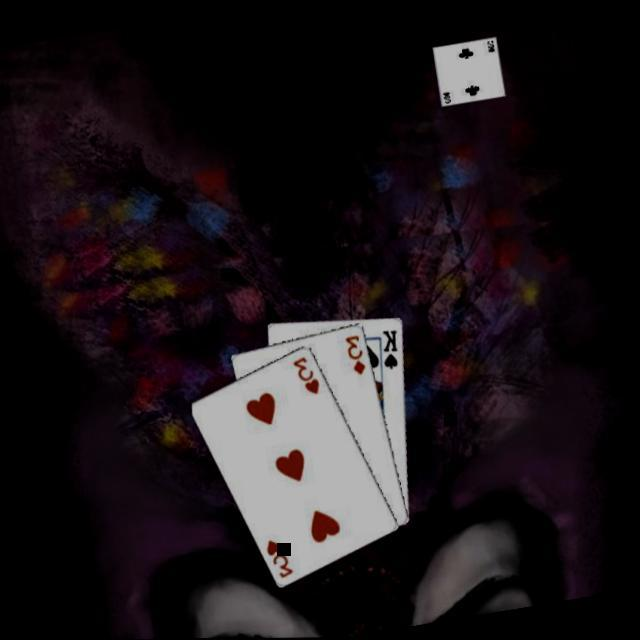3D: (342, 329, 370, 377)
3H: (262, 531, 298, 581), (290, 350, 325, 398)
KS: (377, 323, 406, 371)
